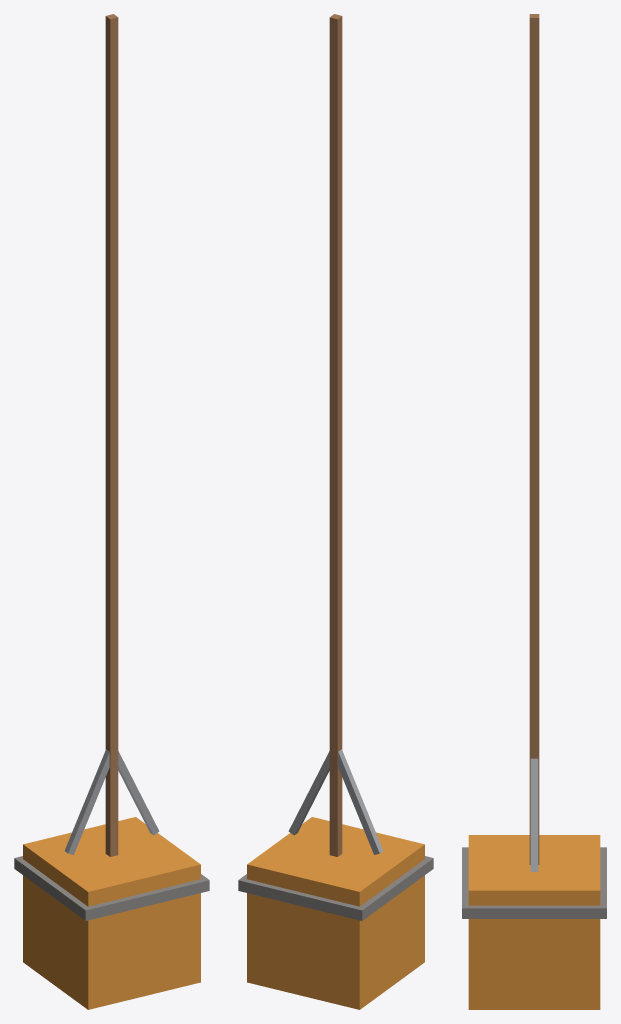
File: 13_concrete_bucket.glb
The picture shows the model from 3 angles, left to right: view 1: azimuth 30°, elevation 25°; view 2: azimuth 150°, elevation 25°; view 3: azimuth 270°, elevation 25°; orthographic projection.
Parts seen in each view (by area): view 1: concrete_bucket_formwork_dyn_hazard, concrete_bucket_formwork_dyn_steelrust, concrete_bucket_formwork_dyn_concretedark, concrete_bucket_formwork_dyn_steel; view 2: concrete_bucket_formwork_dyn_hazard, concrete_bucket_formwork_dyn_steelrust, concrete_bucket_formwork_dyn_concretedark, concrete_bucket_formwork_dyn_steel; view 3: concrete_bucket_formwork_dyn_hazard, concrete_bucket_formwork_dyn_steelrust, concrete_bucket_formwork_dyn_concretedark, concrete_bucket_formwork_dyn_steel.
Boxes of the visible parts, left/top/right/bottom form: concrete_bucket_formwork_dyn_hazard: left=23, top=817, right=200, bottom=1009; concrete_bucket_formwork_dyn_steelrust: left=105, top=14, right=118, bottom=856; concrete_bucket_formwork_dyn_concretedark: left=14, top=856, right=209, bottom=920; concrete_bucket_formwork_dyn_steel: left=64, top=749, right=159, bottom=854; concrete_bucket_formwork_dyn_hazard: left=247, top=817, right=424, bottom=1009; concrete_bucket_formwork_dyn_steelrust: left=329, top=14, right=342, bottom=856; concrete_bucket_formwork_dyn_concretedark: left=238, top=856, right=433, bottom=920; concrete_bucket_formwork_dyn_steel: left=288, top=749, right=383, bottom=854; concrete_bucket_formwork_dyn_hazard: left=468, top=835, right=600, bottom=1009; concrete_bucket_formwork_dyn_steelrust: left=529, top=14, right=539, bottom=864; concrete_bucket_formwork_dyn_concretedark: left=462, top=847, right=606, bottom=918; concrete_bucket_formwork_dyn_steel: left=530, top=758, right=538, bottom=871.
Bounding box in the file's own units: 5.5 × 40.69 × 5.5.
